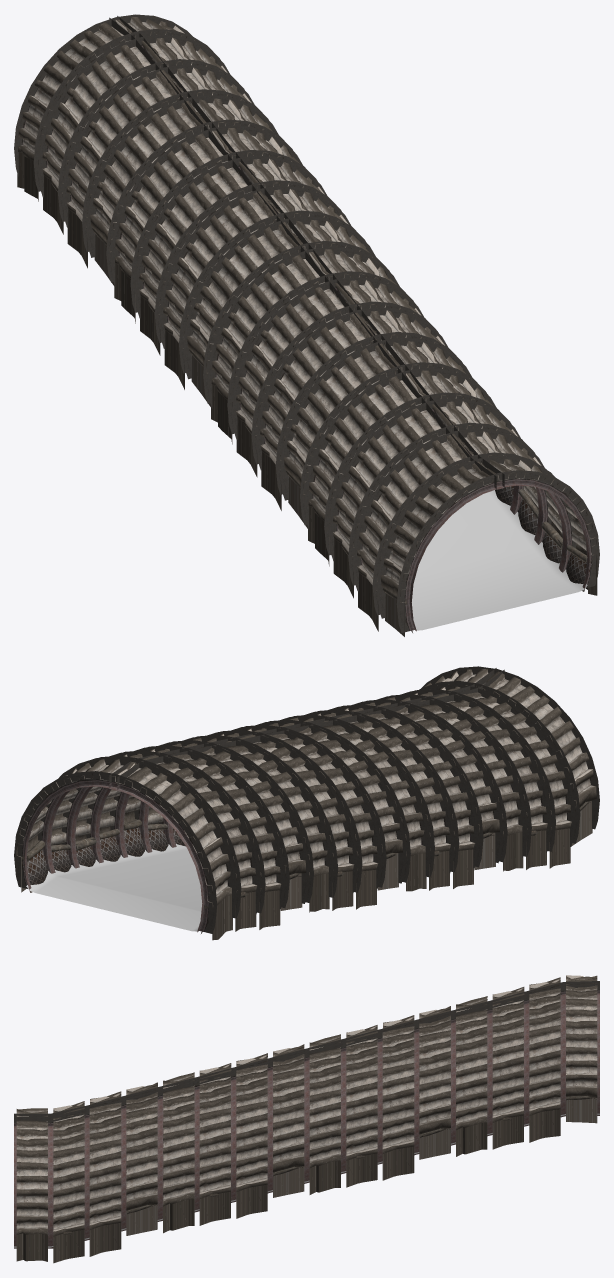
Rendered from tunnel_tile_6.dae.
3 views of the same model, one above another, from view 1: azimuth 30°, elevation 25°; view 2: azimuth 150°, elevation 25°; view 3: azimuth 270°, elevation 25° (orthographic). The views are drawn at different scales.
Parts seen in each view (by area): view 1: Walls, Ground, Chainlink, Wood; view 2: Walls, Ground, Chainlink, Wood; view 3: Walls, Wood.
Part boxes in pixels (x1,y1,x2,y2): Walls: [14, 14, 599, 636]; Ground: [411, 490, 587, 630]; Chainlink: [411, 486, 592, 632]; Wood: [49, 179, 591, 604]; Walls: [14, 666, 599, 940]; Ground: [26, 844, 202, 931]; Chainlink: [22, 802, 590, 933]; Wood: [22, 801, 589, 908]; Walls: [14, 975, 599, 1263]; Wood: [62, 1096, 592, 1234].
Bounding box in the file's own units: 6.06 × 20 × 9.37.
